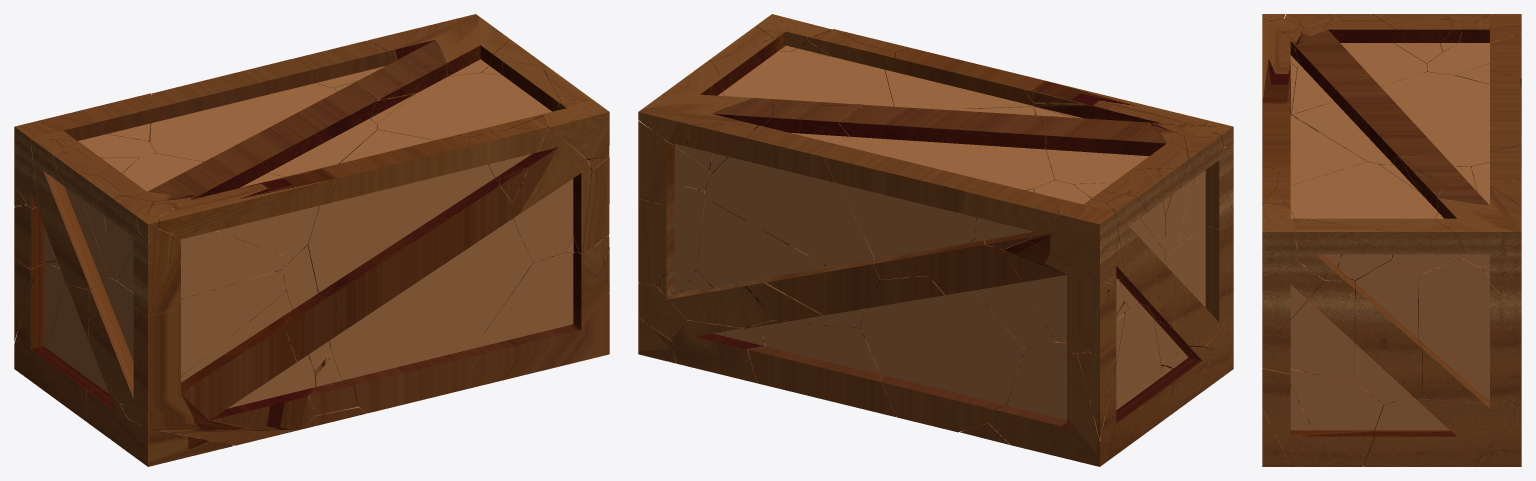
Rendered from CAJA DESTRUIBLE 2.fbx.
3 renders of one model, left to right at view 1: azimuth 30°, elevation 25°; view 2: azimuth 150°, elevation 25°; view 3: azimuth 270°, elevation 25°, orthographic. The views are drawn at different scales.
Parts seen in each view (by area): view 1: caja_cell.023, caja_cell.008, caja_cell.051, caja_cell.033, caja_cell.001, caja_cell.044, caja_cell.037, caja_cell.003, caja_cell.027, caja_cell.031, caja_cell.006, caja_cell.057 (+22 smaller); view 2: caja_cell.008, caja_cell.029, caja_cell.054, caja_cell.022, caja_cell.021, caja_cell.044, caja_cell.048, caja_cell.031, caja_cell.033, caja_cell.023, caja_cell.061, caja_cell.057 (+25 smaller); view 3: caja_cell.008, caja_cell.042, caja_cell.044, caja_cell.014, caja_cell.049, caja_cell.040, caja_cell.031, caja_cell.013, caja_cell.058, caja_cell.023, caja_cell.052, caja_cell.009 (+16 smaller).
Boxes of the visible parts, left/top/right/bottom form: caja_cell.023: left=305, top=129, right=532, bottom=413; caja_cell.008: left=150, top=59, right=377, bottom=176; caja_cell.051: left=107, top=291, right=317, bottom=445; caja_cell.033: left=88, top=263, right=288, bottom=411; caja_cell.001: left=455, top=252, right=609, bottom=391; caja_cell.044: left=377, top=61, right=559, bottom=140; caja_cell.037: left=117, top=198, right=291, bottom=316; caja_cell.003: left=158, top=169, right=337, bottom=258; caja_cell.027: left=488, top=116, right=591, bottom=262; caja_cell.031: left=92, top=151, right=285, bottom=233; caja_cell.006: left=30, top=138, right=107, bottom=289; caja_cell.057: left=23, top=280, right=106, bottom=421; caja_cell.008: left=823, top=105, right=1054, bottom=279; caja_cell.029: left=860, top=275, right=1025, bottom=432; caja_cell.054: left=705, top=125, right=880, bottom=315; caja_cell.022: left=696, top=105, right=866, bottom=327; caja_cell.021: left=989, top=312, right=1125, bottom=466; caja_cell.044: left=712, top=36, right=895, bottom=106; caja_cell.048: left=742, top=320, right=896, bottom=416; caja_cell.031: left=1034, top=106, right=1188, bottom=215; caja_cell.033: left=1154, top=219, right=1233, bottom=366; caja_cell.023: left=884, top=48, right=1043, bottom=109; caja_cell.061: left=1002, top=240, right=1124, bottom=353; caja_cell.057: left=1108, top=303, right=1171, bottom=459; caja_cell.008: left=1292, top=70, right=1521, bottom=167; caja_cell.042: left=1418, top=258, right=1521, bottom=404; caja_cell.044: left=1277, top=156, right=1443, bottom=297; caja_cell.014: left=1262, top=368, right=1383, bottom=466; caja_cell.049: left=1354, top=259, right=1422, bottom=403; caja_cell.040: left=1363, top=396, right=1515, bottom=466; caja_cell.031: left=1291, top=14, right=1427, bottom=115; caja_cell.013: left=1262, top=276, right=1354, bottom=382; caja_cell.058: left=1434, top=182, right=1521, bottom=267; caja_cell.023: left=1262, top=103, right=1366, bottom=185; caja_cell.052: left=1294, top=220, right=1385, bottom=280; caja_cell.009: left=1381, top=218, right=1465, bottom=274.
Size of the model in its own units: 199 by 100 by 100.
